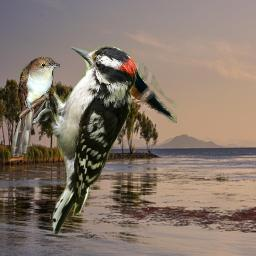Cuckoo: (11, 56, 60, 157)
Swallow: (116, 63, 177, 123)
Woodpecker: (32, 42, 137, 235)
